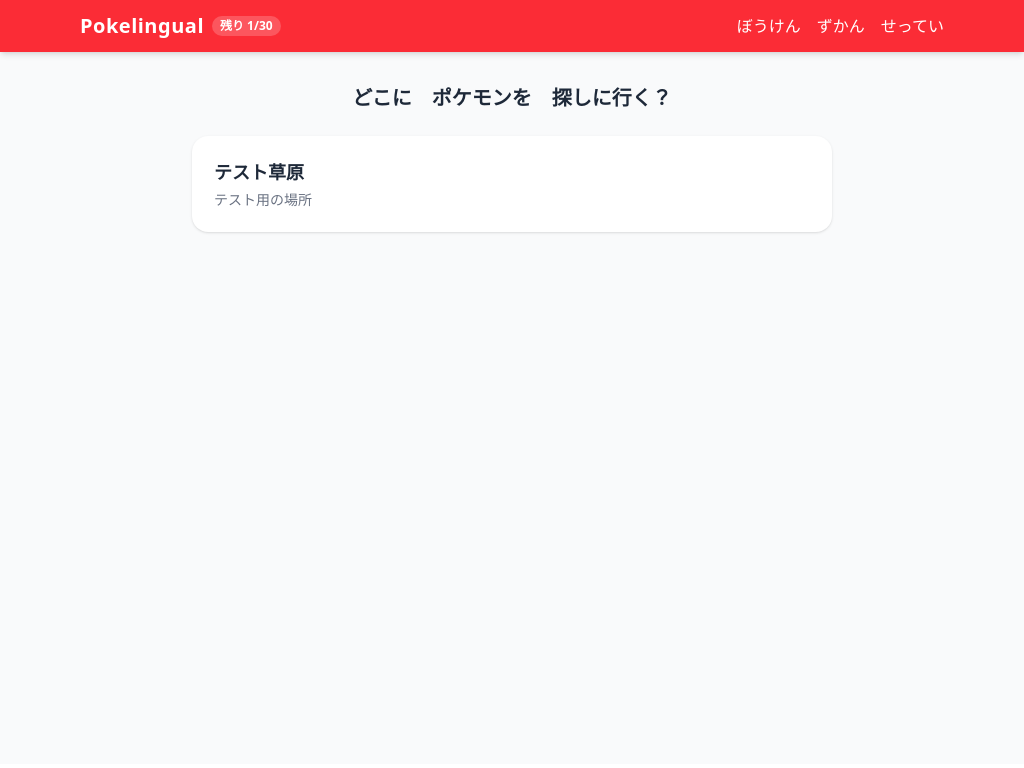
Test case: [レート制限・利用回数] 利用上限の表示 › 異常系 › ヘッダーに「残り 1/30」と表示されているとき、採点の送信で利用上限に達すると、ヘッダーの表示が「残り 0/30」に変わる
expect the text "残り 1/30" is shown: met, box [212,16,281,36]
Click the button "テスト草原 テスト用の場所": x=259, y=172 [192,136,832,232]
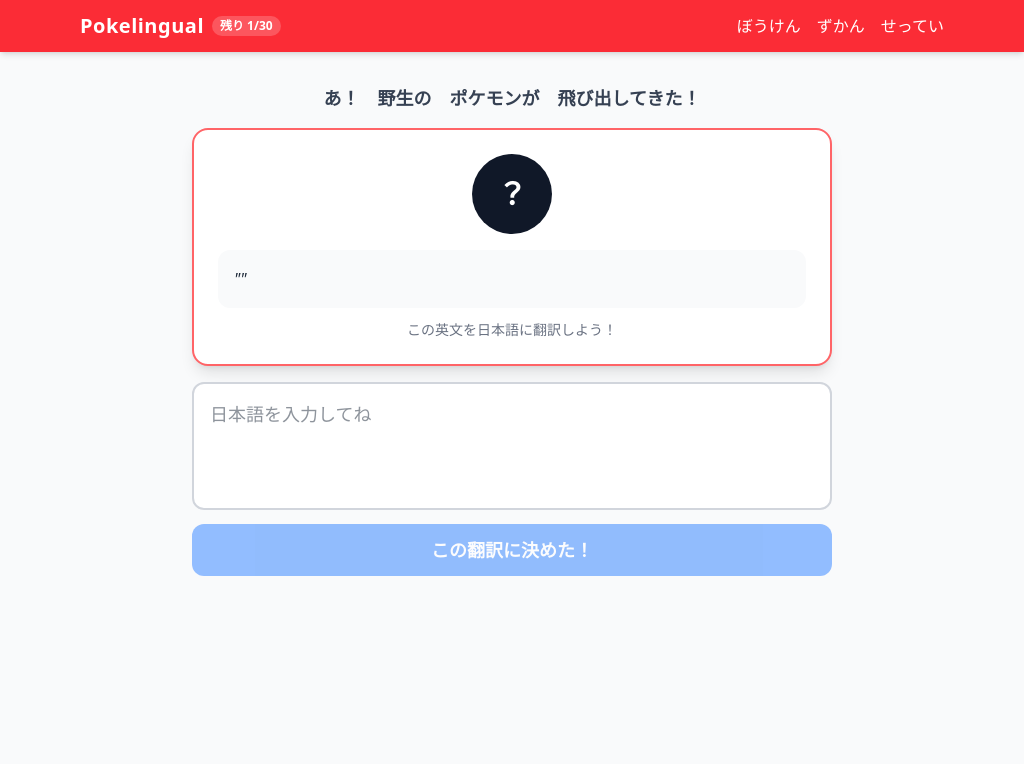
In the text box: x=512, y=446 [192,382,832,510], type "この ポケモンは はやい"
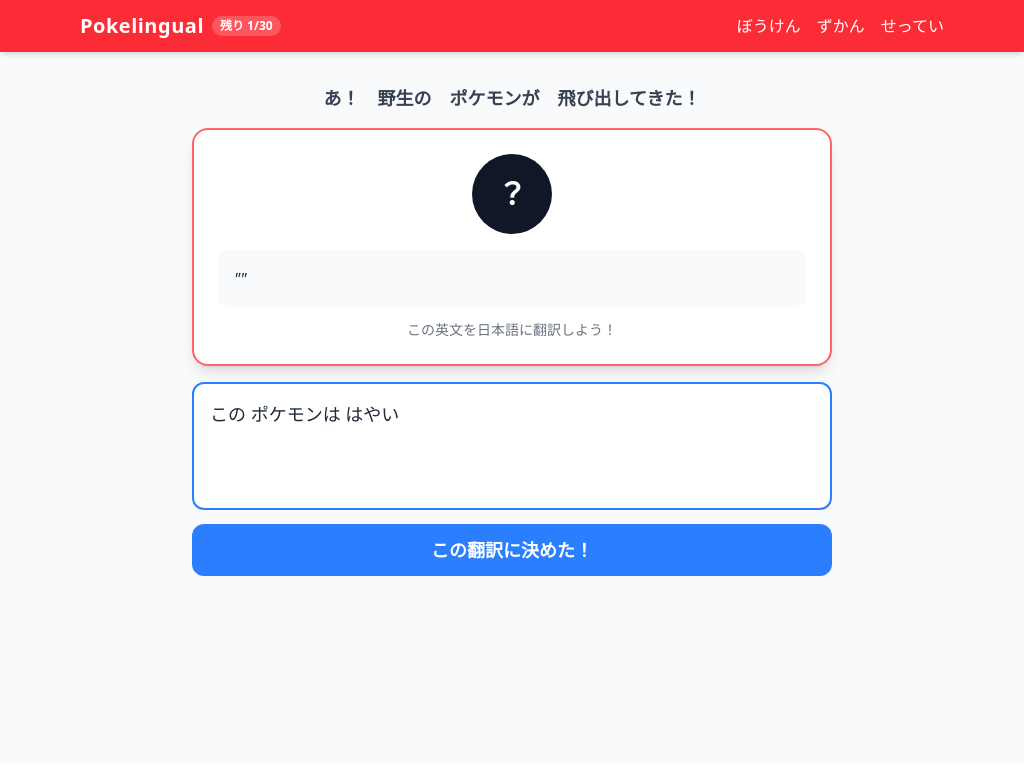
Click the button "この翻訳に決めた！": x=512, y=550 [192,524,832,576]
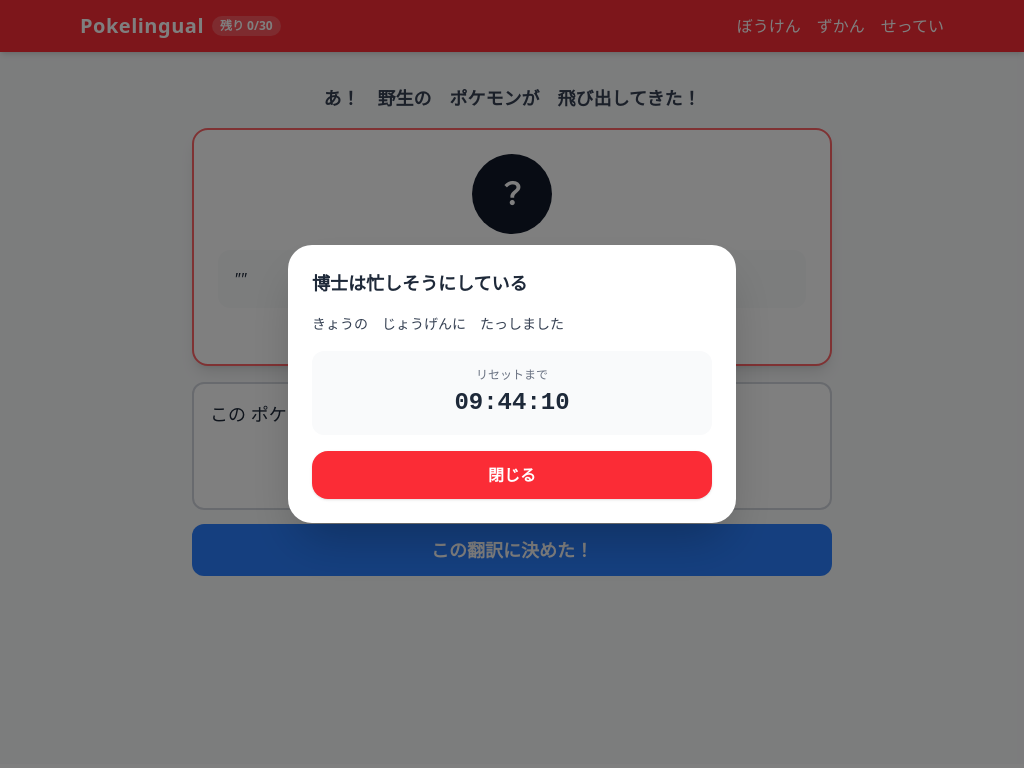
expect the text "残り 0/30" is shown: met, box [212,16,281,36]
